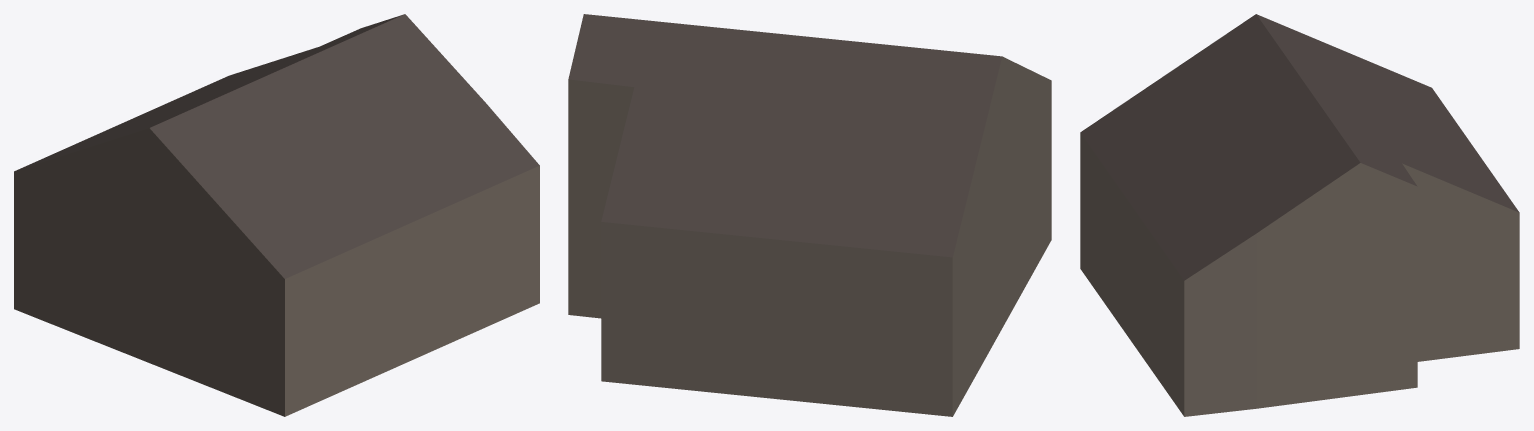
The picture shows the model from 3 angles, left to right: view 1: azimuth 30°, elevation 25°; view 2: azimuth 150°, elevation 25°; view 3: azimuth 270°, elevation 25°; orthographic projection. The views are drawn at different scales.
Parts seen in each view (by area): view 1: HP-w1198664284; view 2: HP-w1198664284; view 3: HP-w1198664284.
Part boxes in pixels (left/top/right/bottom): HP-w1198664284: left=14, top=14, right=539, bottom=416; HP-w1198664284: left=568, top=14, right=1051, bottom=416; HP-w1198664284: left=1080, top=14, right=1519, bottom=416.
Size of the model in its own units: 18.24 by 10.23 by 17.55.
